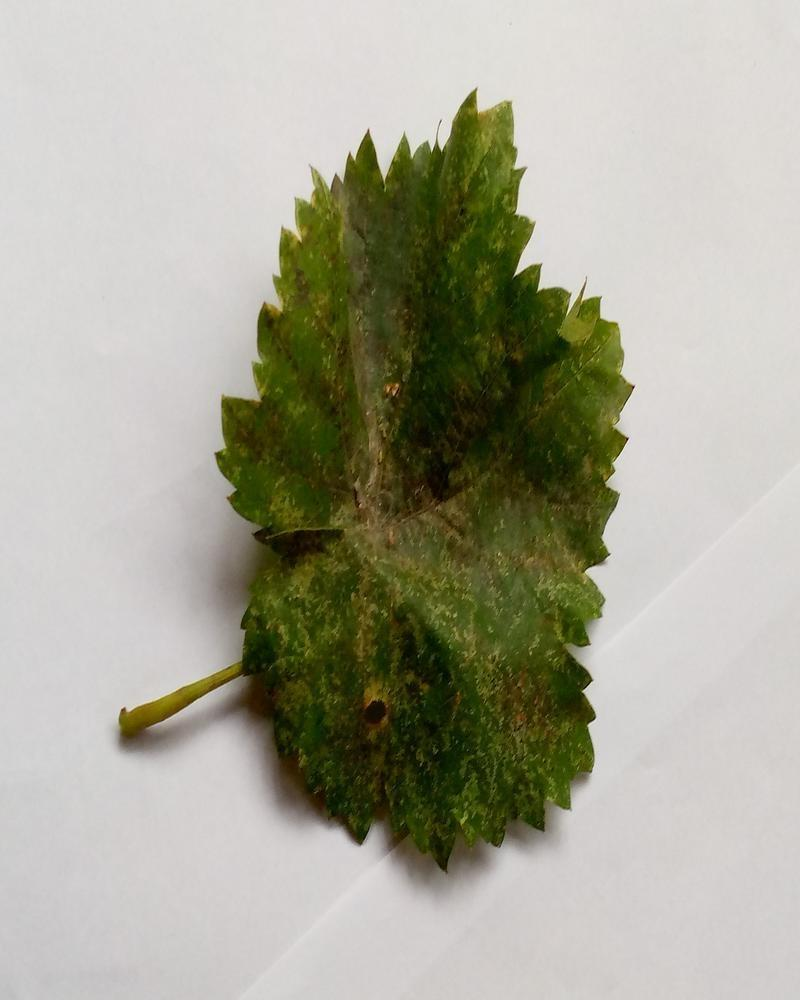Powdery-Mildew: (220, 186, 374, 542), (333, 308, 484, 647), (397, 113, 523, 300), (476, 498, 596, 660), (469, 667, 585, 823), (549, 300, 631, 451), (242, 570, 324, 710), (352, 677, 415, 740)
